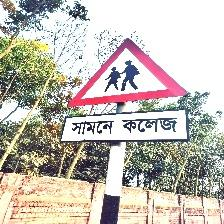College-in-front: (61, 26, 212, 167)
